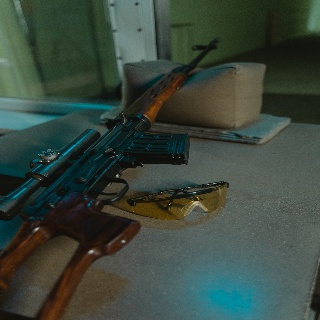rifle: (1, 37, 224, 320)
